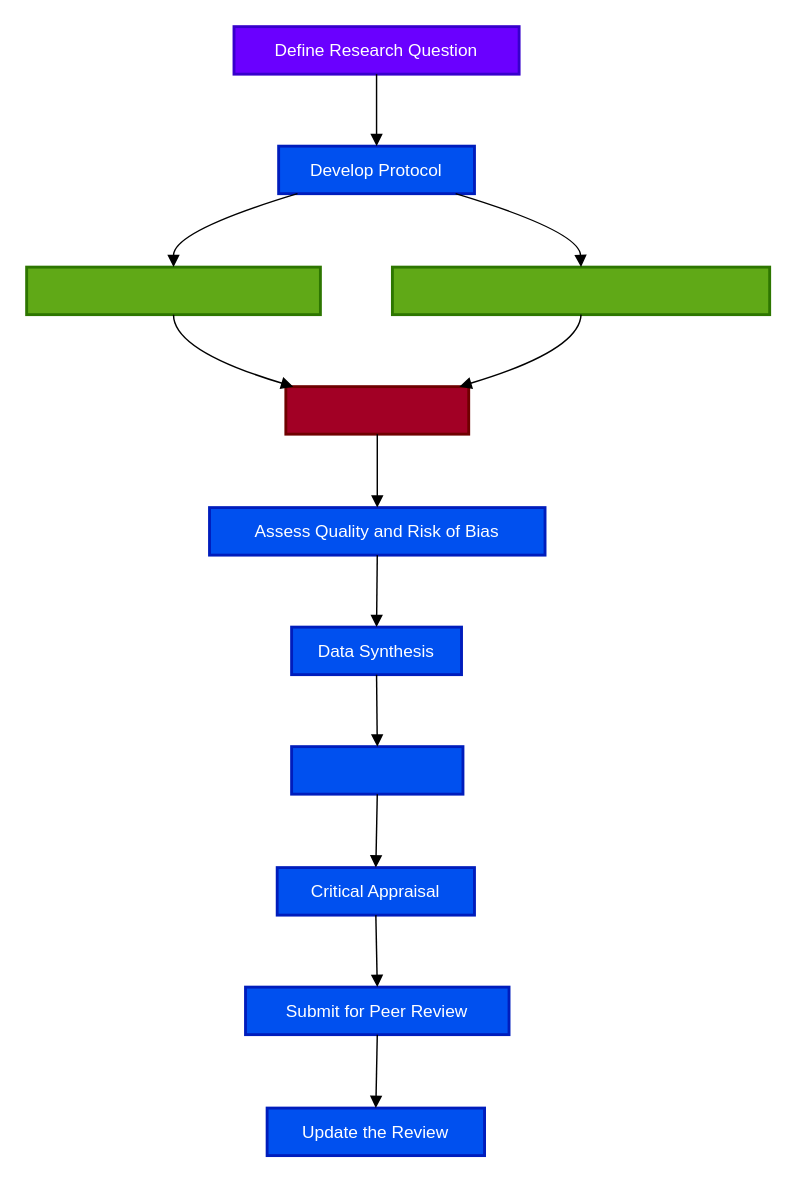
The diagram is 795 pixels wide and 1181 high, and some of its shapes have lost their labels. The centre of each missing label's shape, as x and y in pixels:
Conduct Literature Search: pixel 172 290
Data Extraction: pixel 376 409
Report Writing: pixel 376 769
Screening and Selection of Studies: pixel 580 290
